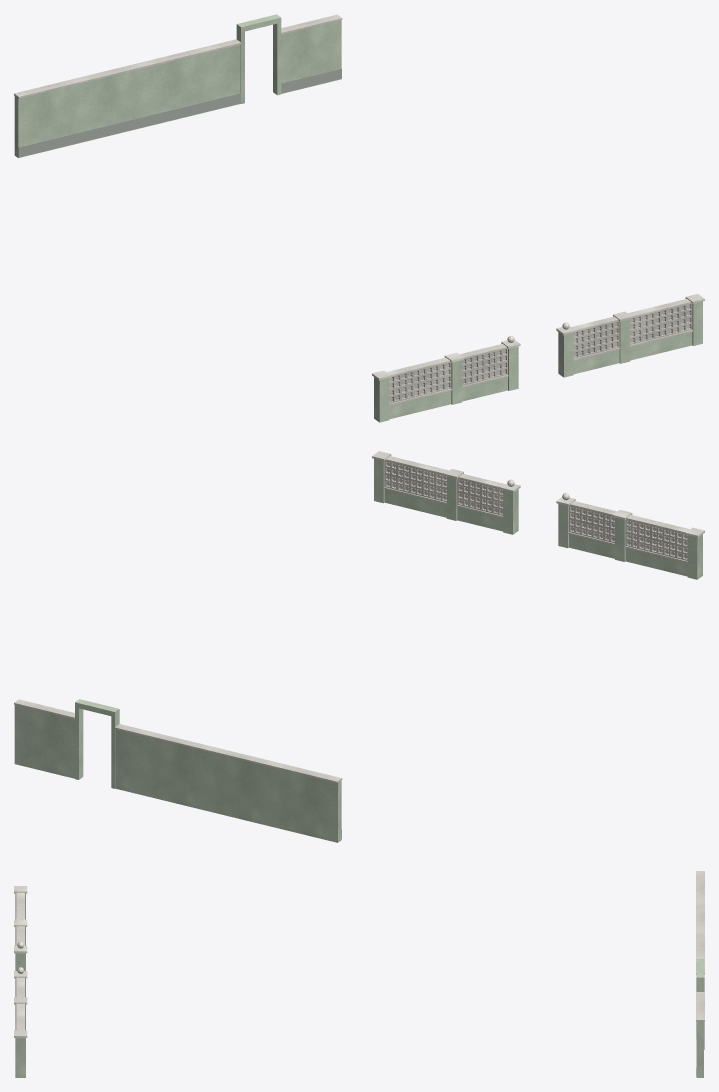
File: court_walls.glb
The picture shows the model from 3 angles, top to bottom: view 1: azimuth 30°, elevation 25°; view 2: azimuth 150°, elevation 25°; view 3: azimuth 270°, elevation 25°; orthographic projection. The views are drawn at different scales.
Parts seen in each view (by area): view 1: court_walls_stucco, court_walls_block, court_walls_coping, court_walls_plinth; view 2: court_walls_stucco, court_walls_block, court_walls_coping; view 3: court_walls_coping, court_walls_stucco.
Part boxes in pixels (x1,y1,x2,y2): court_walls_stucco: [14, 14, 702, 422]; court_walls_block: [389, 303, 692, 403]; court_walls_coping: [14, 14, 704, 405]; court_walls_plinth: [18, 68, 341, 157]; court_walls_stucco: [14, 459, 702, 842]; court_walls_block: [384, 460, 687, 560]; court_walls_coping: [14, 451, 704, 783]; court_walls_coping: [14, 871, 704, 1037]; court_walls_stucco: [15, 893, 704, 1077].
Size of the model in its own units: 10.08 by 2.27 by 19.62.
Materials: 5 (4 with a texture image).
